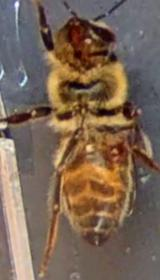varroa_mite: (100, 132, 126, 170)
